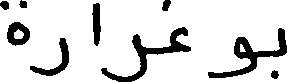ا: (91, 0, 100, 46)
ب: (264, 26, 285, 78)
ة: (0, 0, 30, 47)
ر: (99, 24, 143, 81), (31, 35, 68, 76)
غ: (161, 0, 188, 53)
و: (207, 35, 253, 78)
